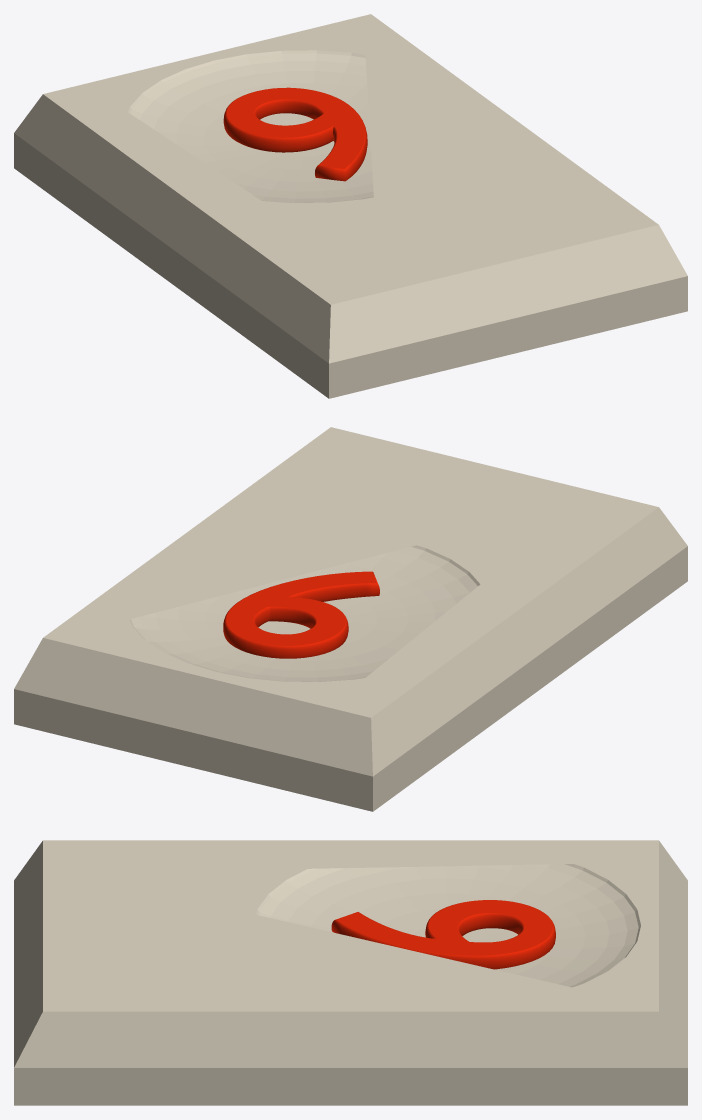
The model's file is r9_cube_tail.fbx.
The picture shows the model from 3 angles, top to bottom: view 1: azimuth 30°, elevation 25°; view 2: azimuth 150°, elevation 25°; view 3: azimuth 270°, elevation 25°; orthographic projection. The views are drawn at different scales.
Parts seen in each view (by area): view 1: 큐브, 숫자; view 2: 큐브, 숫자; view 3: 큐브, 숫자.
Part boxes in pixels (bbox=[...]): 큐브: bbox=[14, 14, 687, 398]; 숫자: bbox=[223, 87, 367, 181]; 큐브: bbox=[14, 427, 687, 811]; 숫자: bbox=[223, 571, 379, 658]; 큐브: bbox=[14, 840, 687, 1105]; 숫자: bbox=[331, 900, 555, 969].
Size of the model in its own units: 500 by 107 by 760.
